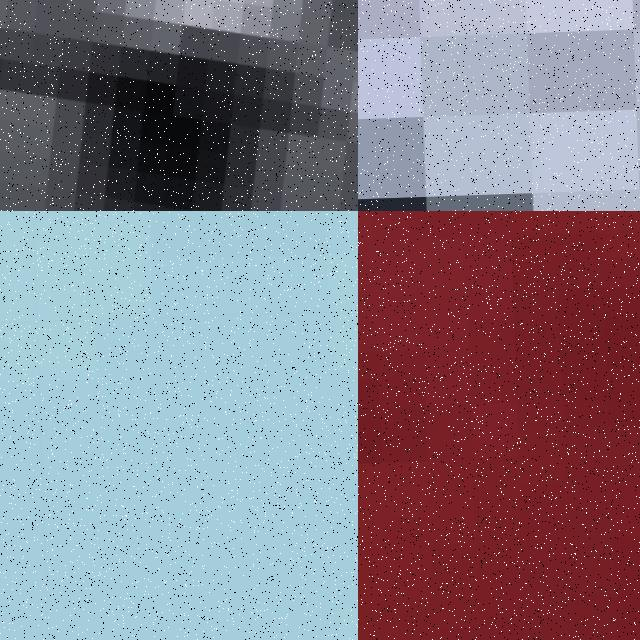drone: (0, 0, 358, 211)
